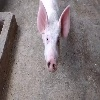heo: (35, 1, 72, 74)
